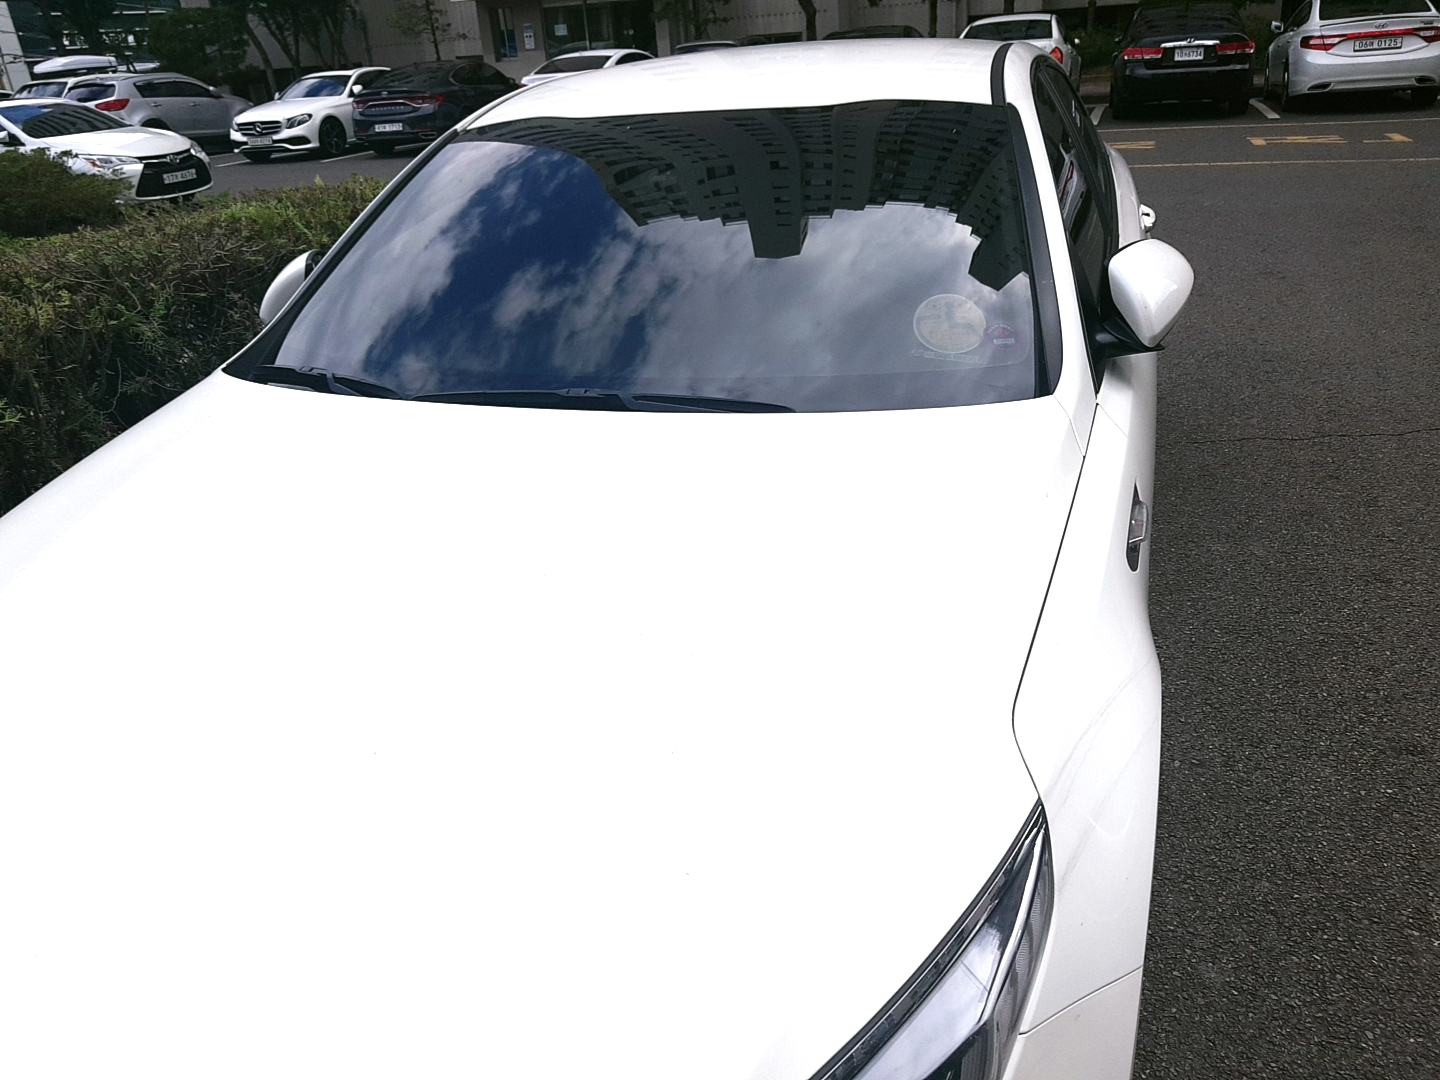disabled_parking: (912, 290, 990, 356)
